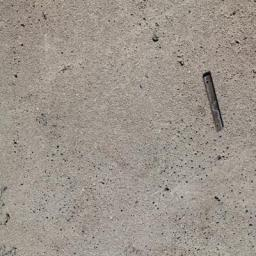FOD: (200, 71, 230, 134)
